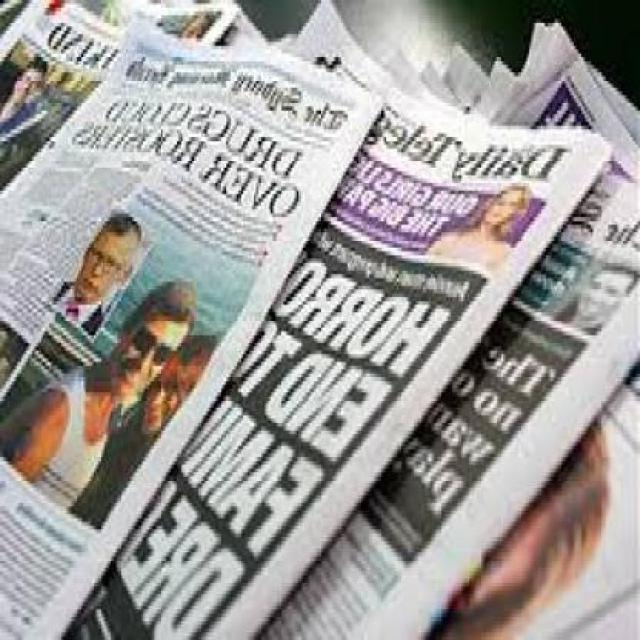PAPER: (65, 4, 612, 636), (2, 0, 386, 637), (260, 49, 629, 637), (431, 354, 638, 637)
